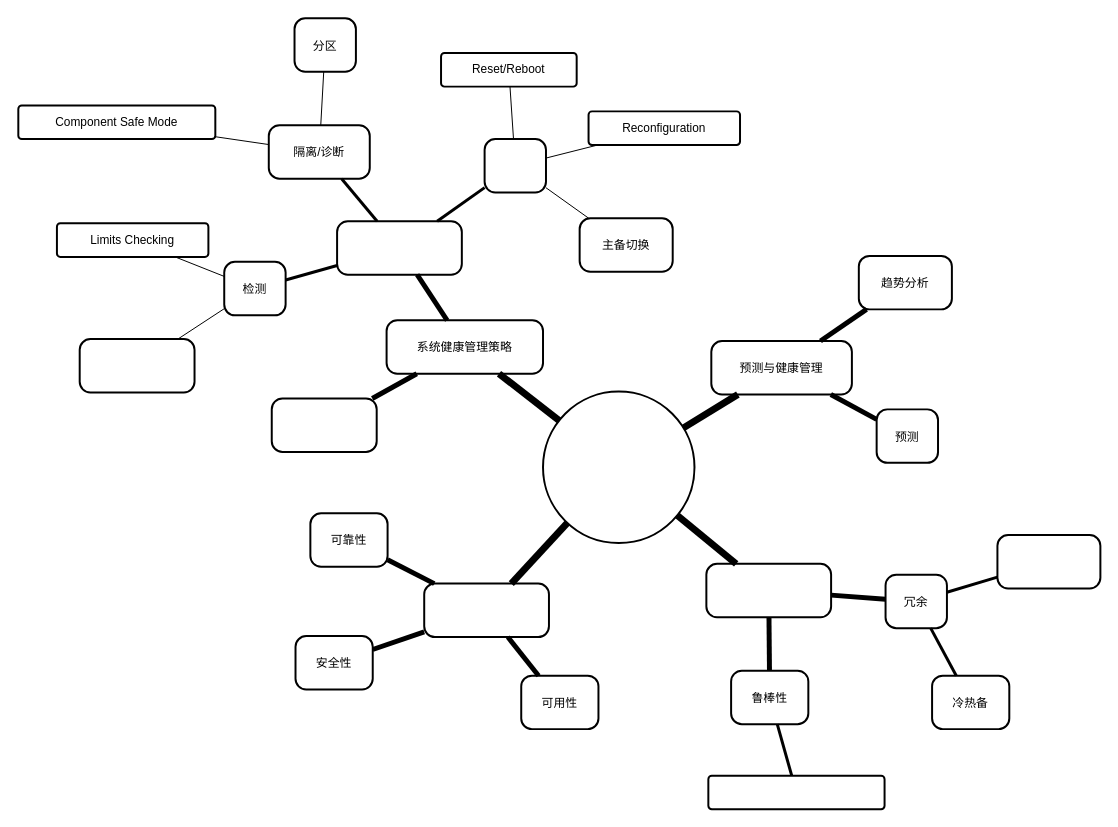
Some shapes in this 1118 by 827 pixel diagram are drawn without their labels. Each missing label, with the centre of its shape:
"Built-in Test" goes at (x=136, y=365).
"Exception Handling" goes at (x=796, y=792).
"Monitoring" goes at (x=323, y=424).
"N版本编程" goes at (x=1048, y=561).
"底层设计能力" goes at (x=768, y=590).
"恢复" goes at (x=514, y=165).
"星载软件 安全体系" goes at (x=618, y=467).
"核心执行机制" goes at (x=399, y=247).
"顶层目标属性" goes at (x=486, y=610).
